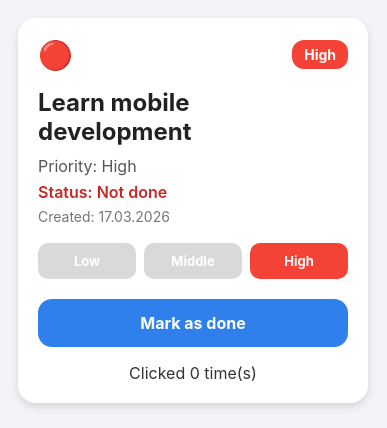
Test case: HomeScreen › toggles back to not done
Click the text "Mark as done": (193, 322) [140,312,246,332]
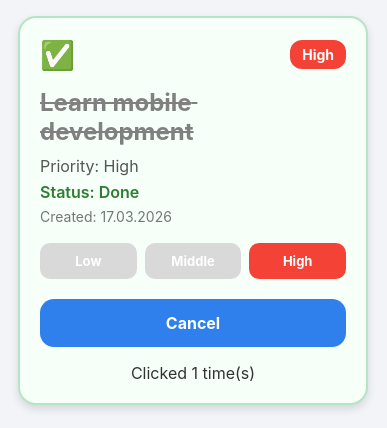
Click the text "Cancel": (193, 322) [166,312,220,332]
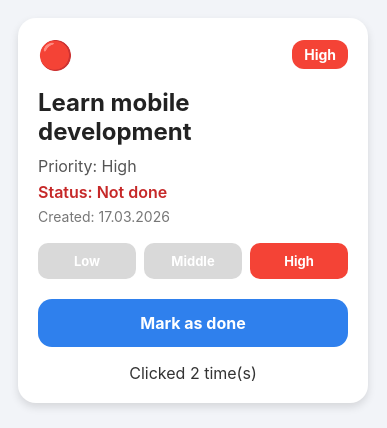
Expected: the text "Status: Not done" is shown, [38,182,167,202]
Expected: the text "🔴" is shown, [38,38,73,72]
